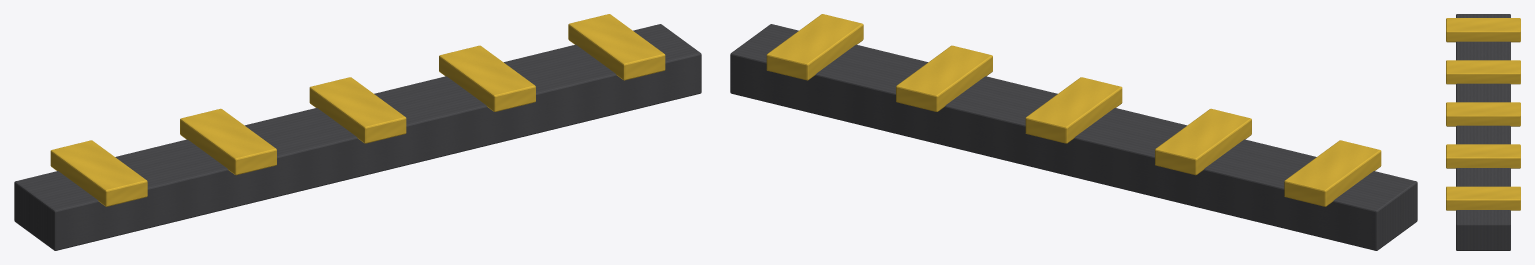
File: fixture_rail.glb
3 renders of one model, left to right at view 1: azimuth 30°, elevation 25°; view 2: azimuth 150°, elevation 25°; view 3: azimuth 270°, elevation 25°, orthographic. The views are drawn at different scales.
Parts seen in each view (by area): view 1: base.012, mounting_block.002, mounting_block.004, mounting_block, mounting_block.001, mounting_block.003; view 2: base.012, mounting_block.002, mounting_block.004, mounting_block, mounting_block.001, mounting_block.003; view 3: base.012, mounting_block.003, mounting_block.004, mounting_block.001, mounting_block.002, mounting_block.
Boxes of the visible parts, left/top/right/bottom form: base.012: left=14, top=24, right=701, bottom=250; mounting_block.002: left=309, top=77, right=406, bottom=143; mounting_block.004: left=568, top=14, right=665, bottom=80; mounting_block: left=50, top=140, right=147, bottom=206; mounting_block.001: left=180, top=108, right=276, bottom=175; mounting_block.003: left=439, top=45, right=535, bottom=111; base.012: left=730, top=24, right=1417, bottom=250; mounting_block.002: left=1025, top=77, right=1122, bottom=143; mounting_block.004: left=766, top=14, right=863, bottom=80; mounting_block: left=1284, top=140, right=1381, bottom=206; mounting_block.001: left=1155, top=108, right=1251, bottom=175; mounting_block.003: left=896, top=45, right=992, bottom=111; base.012: left=1456, top=14, right=1510, bottom=250; mounting_block.003: left=1446, top=144, right=1520, bottom=168; mounting_block.004: left=1446, top=186, right=1520, bottom=210; mounting_block.001: left=1446, top=60, right=1520, bottom=84; mounting_block.002: left=1446, top=102, right=1520, bottom=126; mounting_block: left=1446, top=18, right=1520, bottom=42.
Bounding box in the file's own units: 2 × 0.165 × 0.3.
2 materials, 2 textured.
